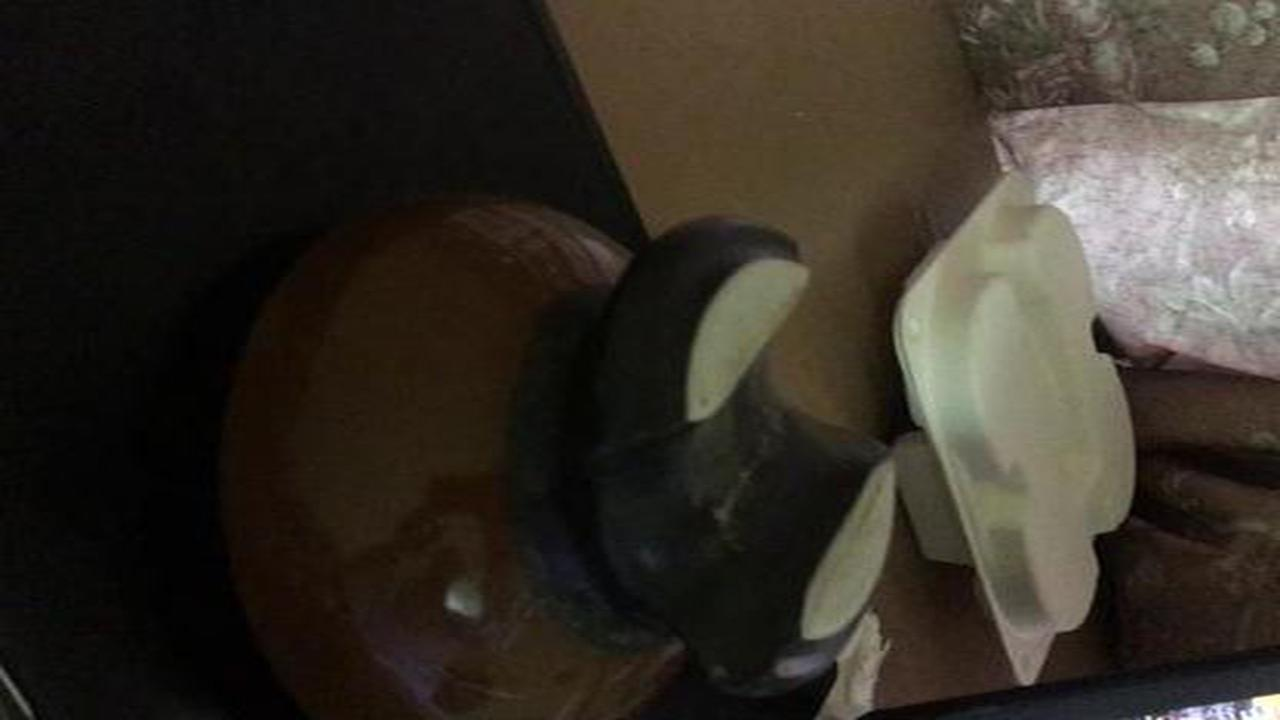insulator_pin: (188, 165, 933, 710)
